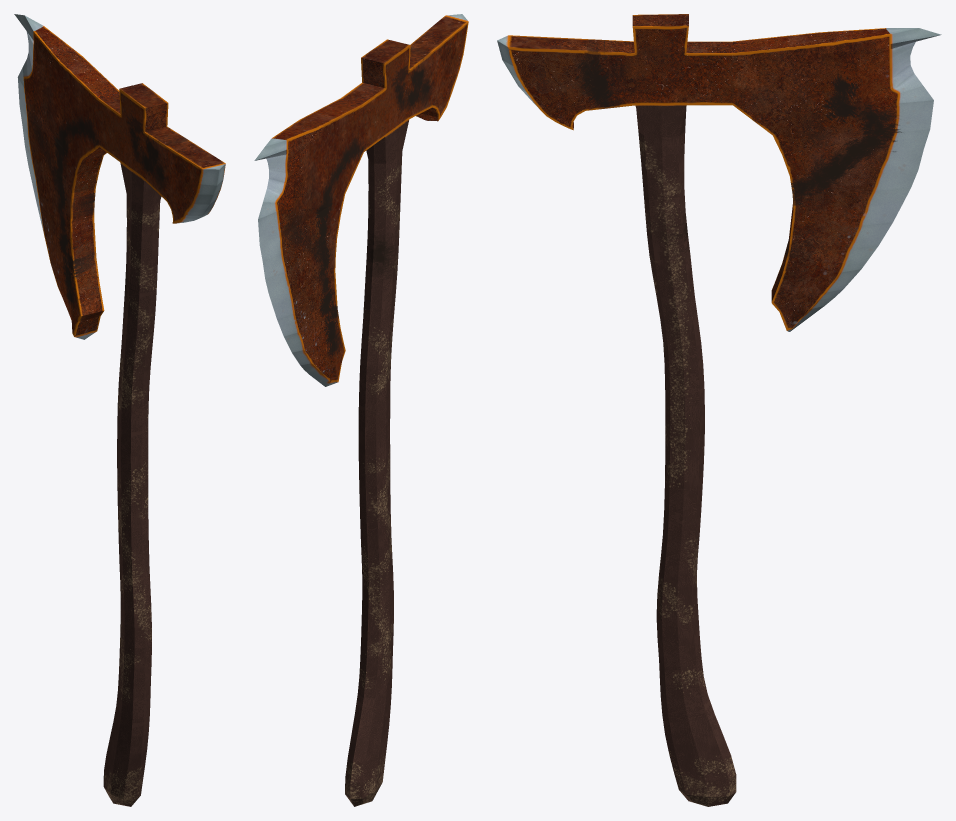
File: axe_mesh.fbx
The picture shows the model from 3 angles, left to right: view 1: azimuth 30°, elevation 25°; view 2: azimuth 150°, elevation 25°; view 3: azimuth 270°, elevation 25°; orthographic projection. The views are drawn at different scales.
Visible parts, largest first — view 1: axe_geo; view 2: axe_geo; view 3: axe_geo.
Boxes of the visible parts, x1,y1,x2,y2 form: axe_geo: (14, 14, 225, 806); axe_geo: (254, 14, 468, 806); axe_geo: (497, 14, 941, 806).
Bounding box in the file's own units: 0.1986 × 5.95 × 3.05.
